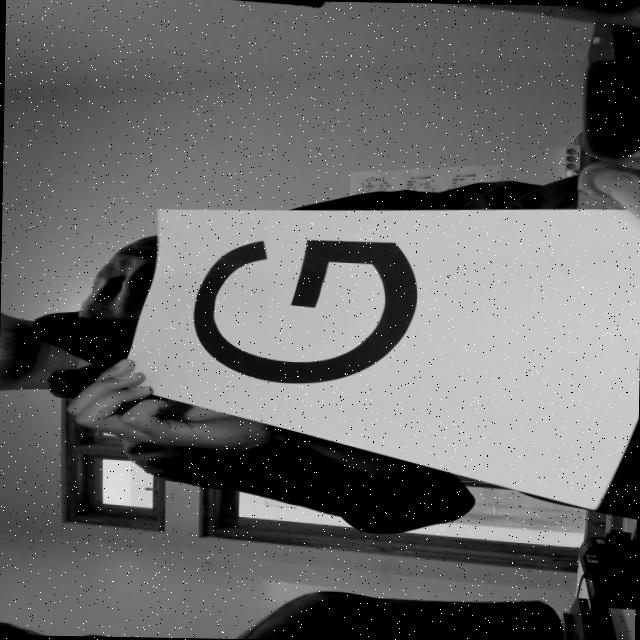g: (175, 226, 444, 389)
